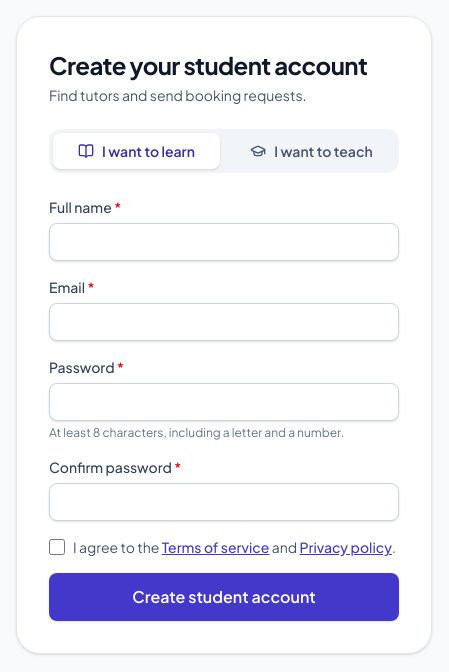
Test case: registration › registers a student by default and shows the email confirmation step
Type "Tara Tutor" into the field labelled "Full name *" at (224, 242), box [49,223,399,261]
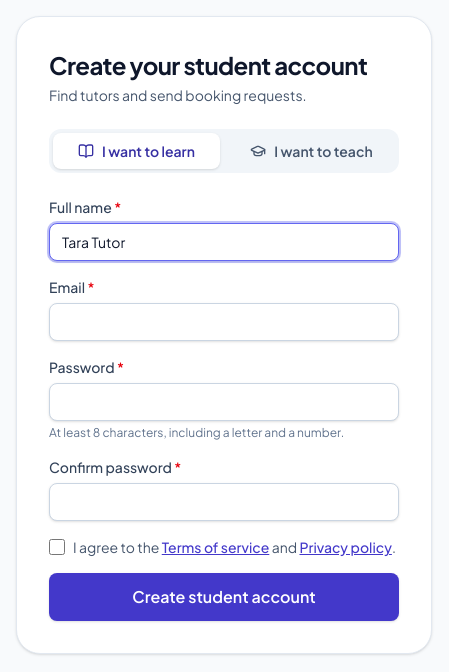
Type "tara@example.com" into the field labelled "Email *" at (224, 322), box [49,303,399,341]
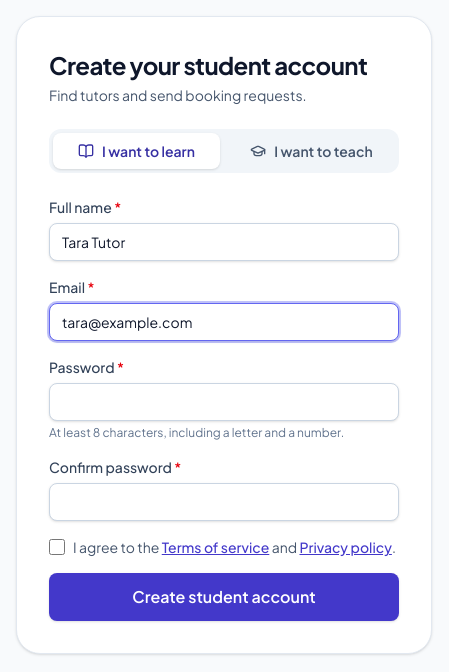
Type "secret123" into the password field labelled "Password *" at (224, 402), box [49,383,399,421]
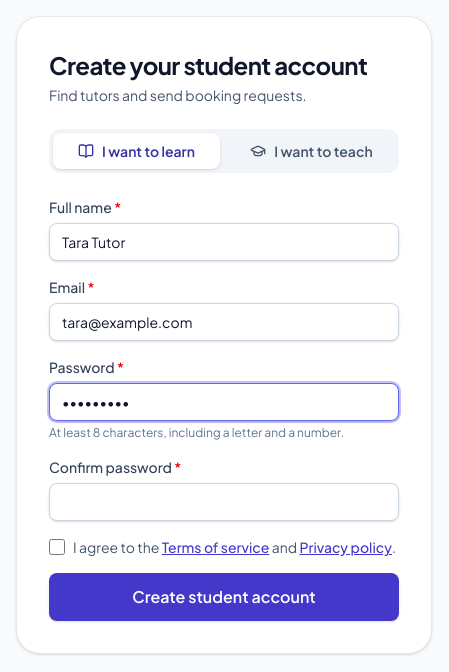
Type "secret123" into the password field labelled "Confirm password *" at (224, 502), box [49,483,399,521]
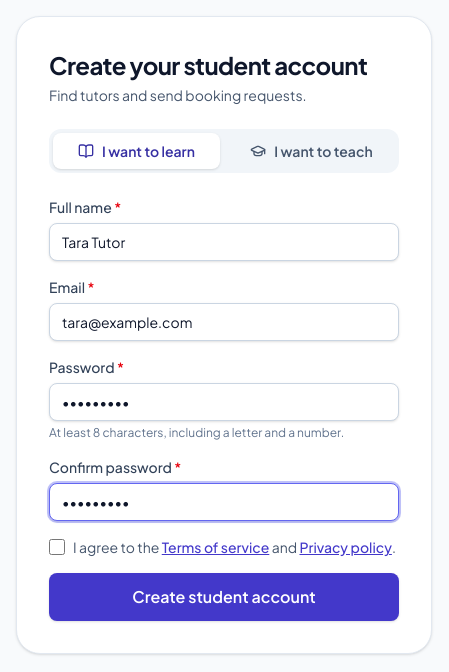
Click the checkbox at (57, 547), box [49,539,65,555]
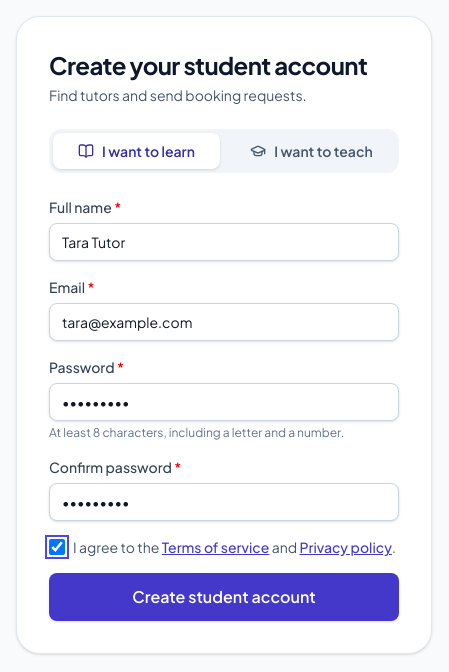
Click the button "Create student account" at (224, 597), box [49,573,399,621]
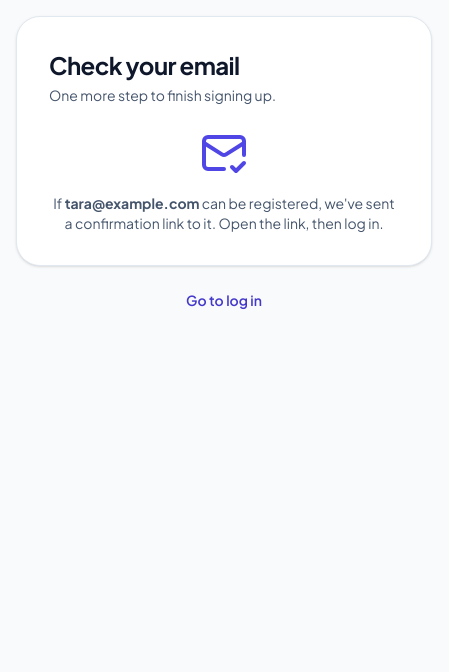
Expected: the heading "Check your email" is shown, [49,50,240,80]
